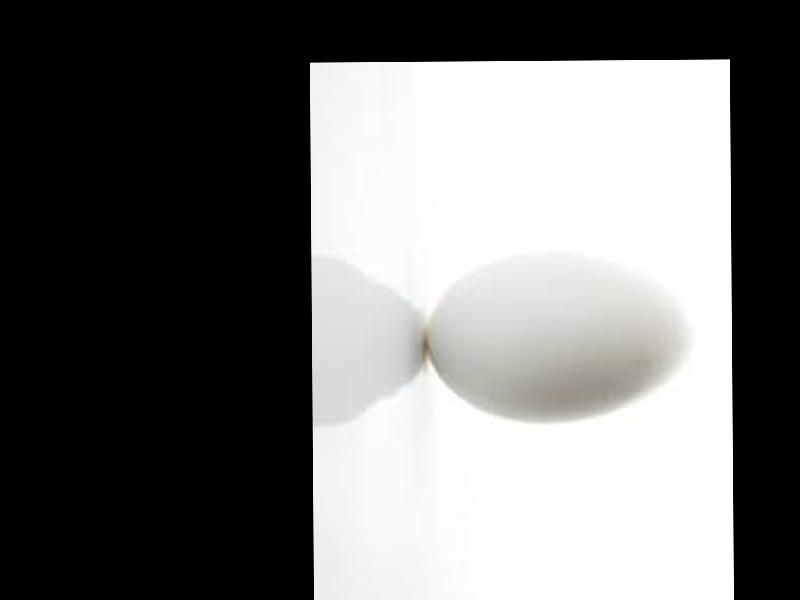Eggs: (425, 256, 690, 423)
